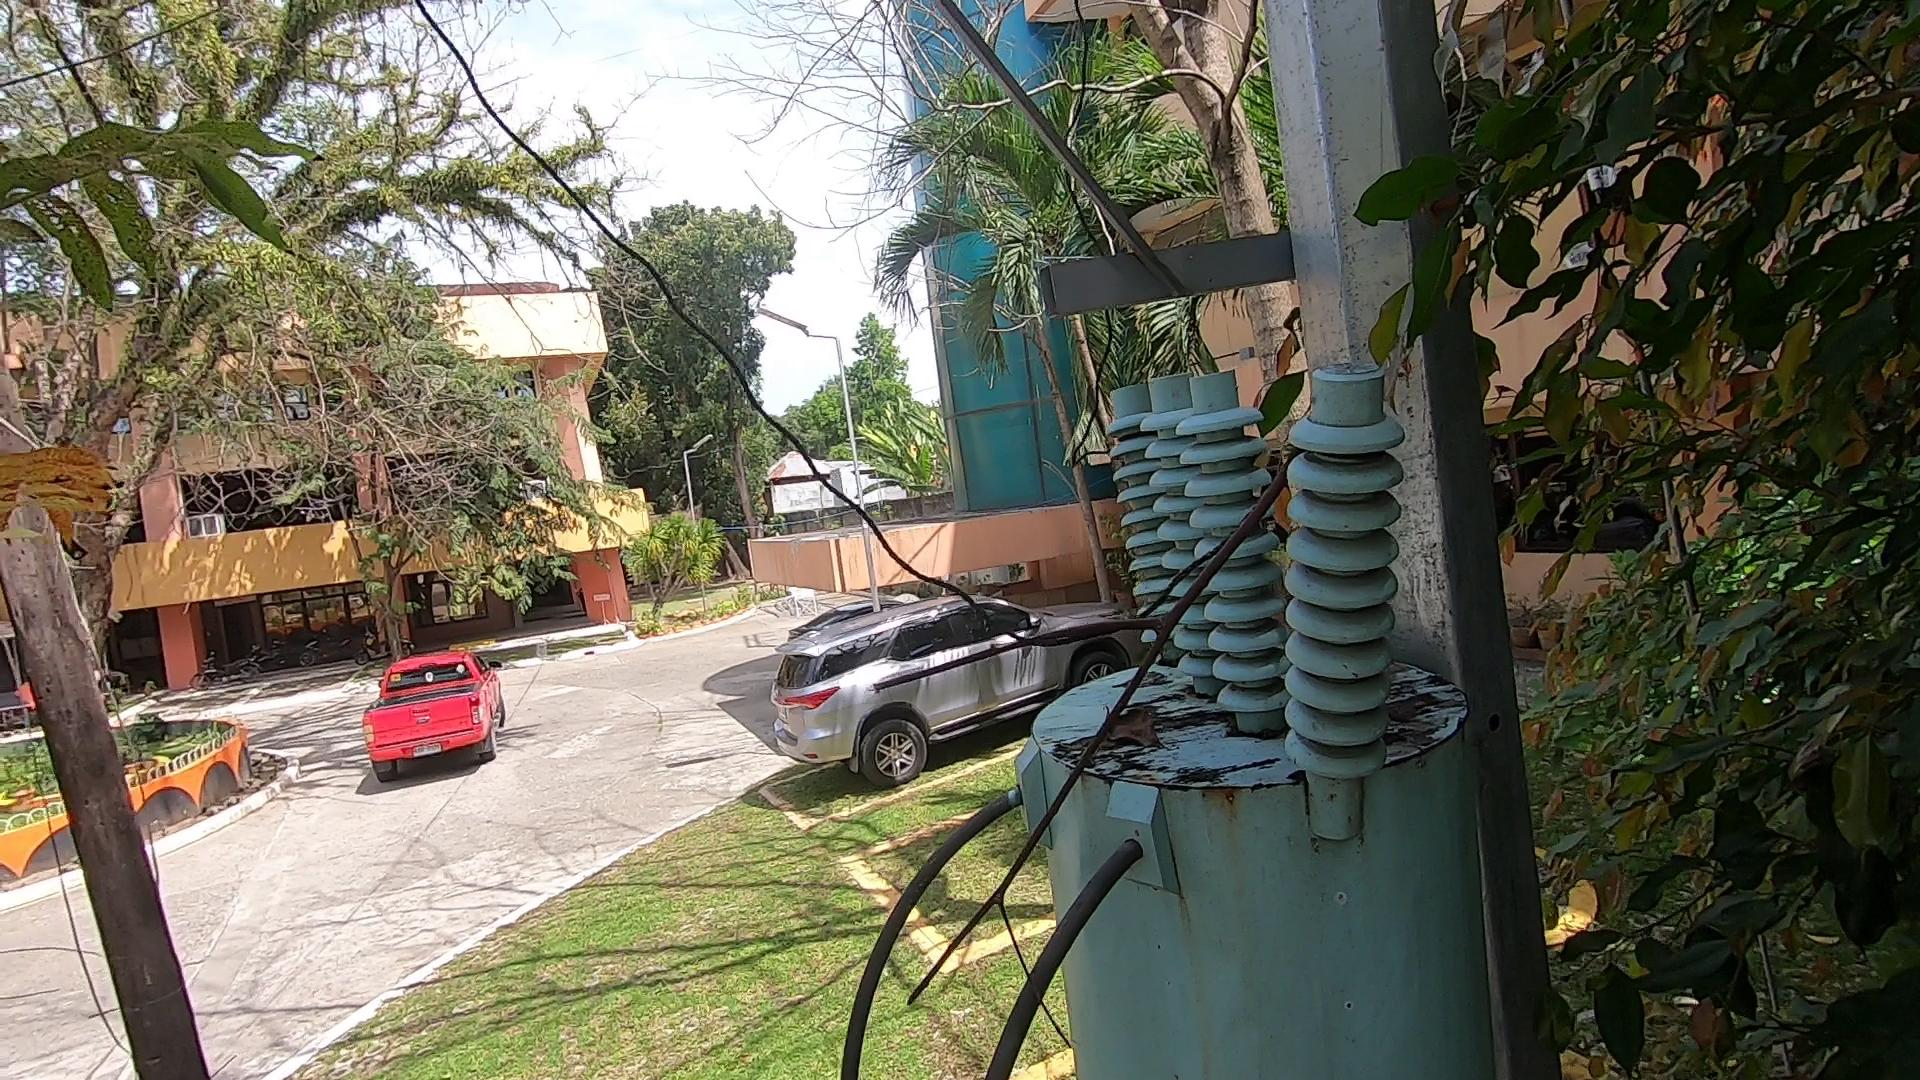leaf: (1108, 705, 1183, 762)
tree branch: (894, 392, 1371, 1062)
